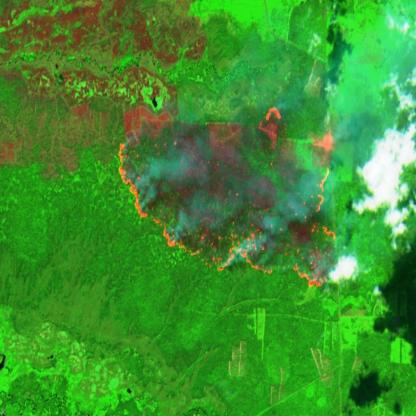fire: (112, 99, 339, 290)
